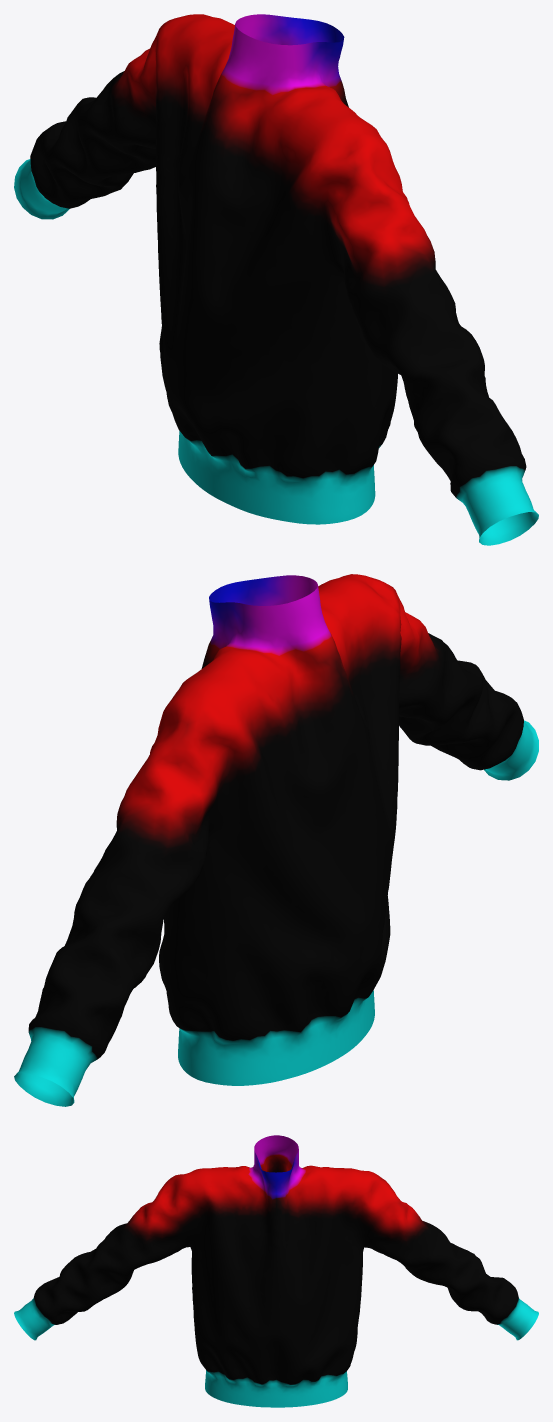
Rendered from bomber_jacket.fbx.
3 views of the same model, one above another, from view 1: azimuth 30°, elevation 25°; view 2: azimuth 150°, elevation 25°; view 3: azimuth 270°, elevation 25° (orthographic). The views are drawn at different scales.
Parts seen in each view (by area): view 1: bomber_jacket; view 2: bomber_jacket; view 3: bomber_jacket.
Boxes of the visible parts, x1,y1,x2,y2 form: bomber_jacket: (14, 14, 538, 545); bomber_jacket: (14, 574, 538, 1106); bomber_jacket: (14, 1135, 538, 1407).
Bounding box in the file's own units: 30.08 × 129 × 66.14.
